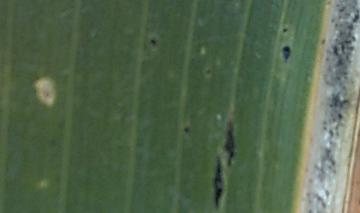tarspot: (213, 153, 223, 207), (224, 120, 235, 168), (282, 46, 292, 63), (148, 37, 159, 50), (183, 127, 192, 138), (204, 67, 212, 78), (281, 26, 287, 33)
